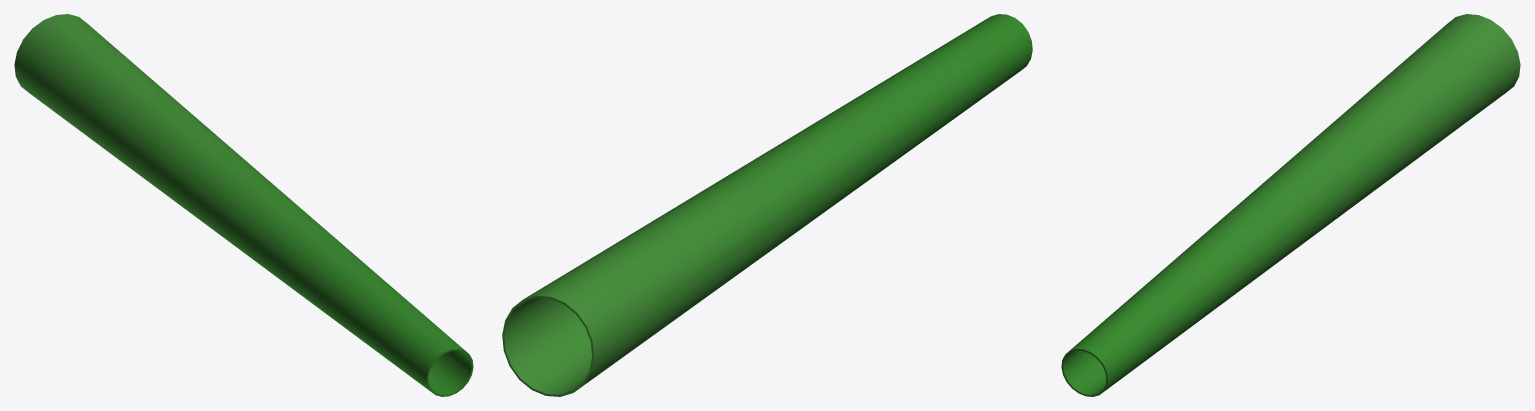
Rendered from chives1_sliced_2.fbx.
The picture shows the model from 3 angles, left to right: view 1: azimuth 30°, elevation 25°; view 2: azimuth 150°, elevation 25°; view 3: azimuth 330°, elevation 25°; orthographic projection. The views are drawn at different scales.
Visible parts, largest first — view 1: Chives_1_sliced.002; view 2: Chives_1_sliced.002; view 3: Chives_1_sliced.002.
Boxes of the visible parts, x1=… form: Chives_1_sliced.002: x1=14, y1=14, x2=473, y2=396; Chives_1_sliced.002: x1=502, y1=14, x2=1032, y2=396; Chives_1_sliced.002: x1=1061, y1=14, x2=1520, y2=396.
Size of the model in its own units: 46.49 by 52.36 by 404.
